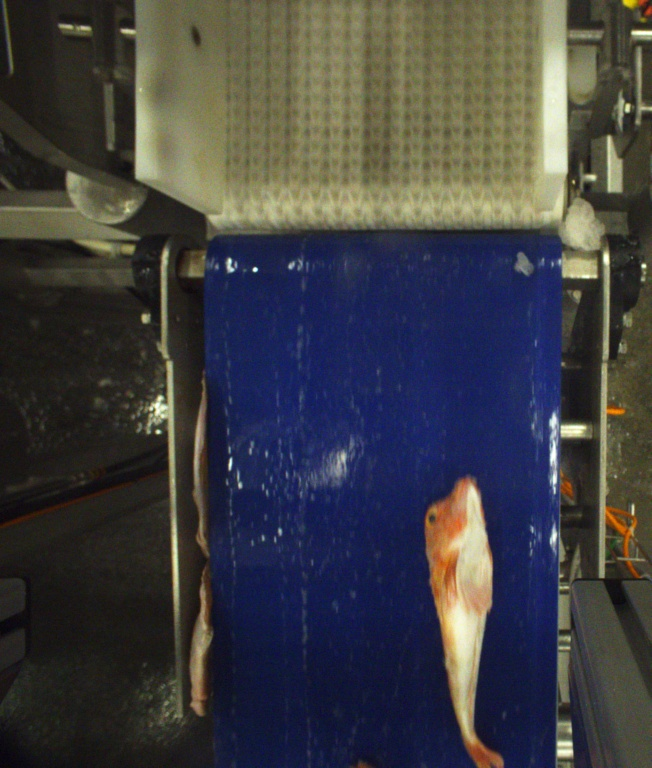GUU: (425, 475, 506, 768)
